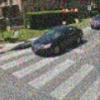cars: (32, 26, 83, 57)
